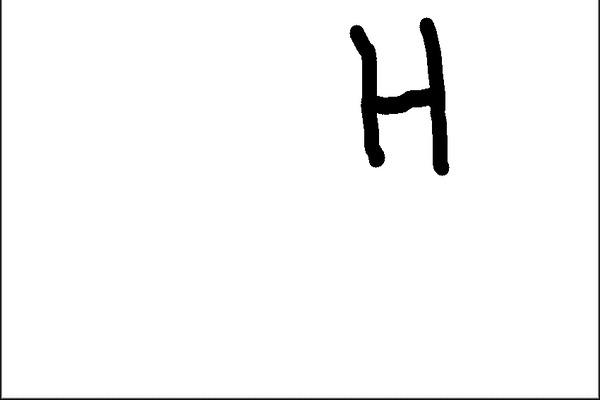H: (347, 15, 457, 177)
